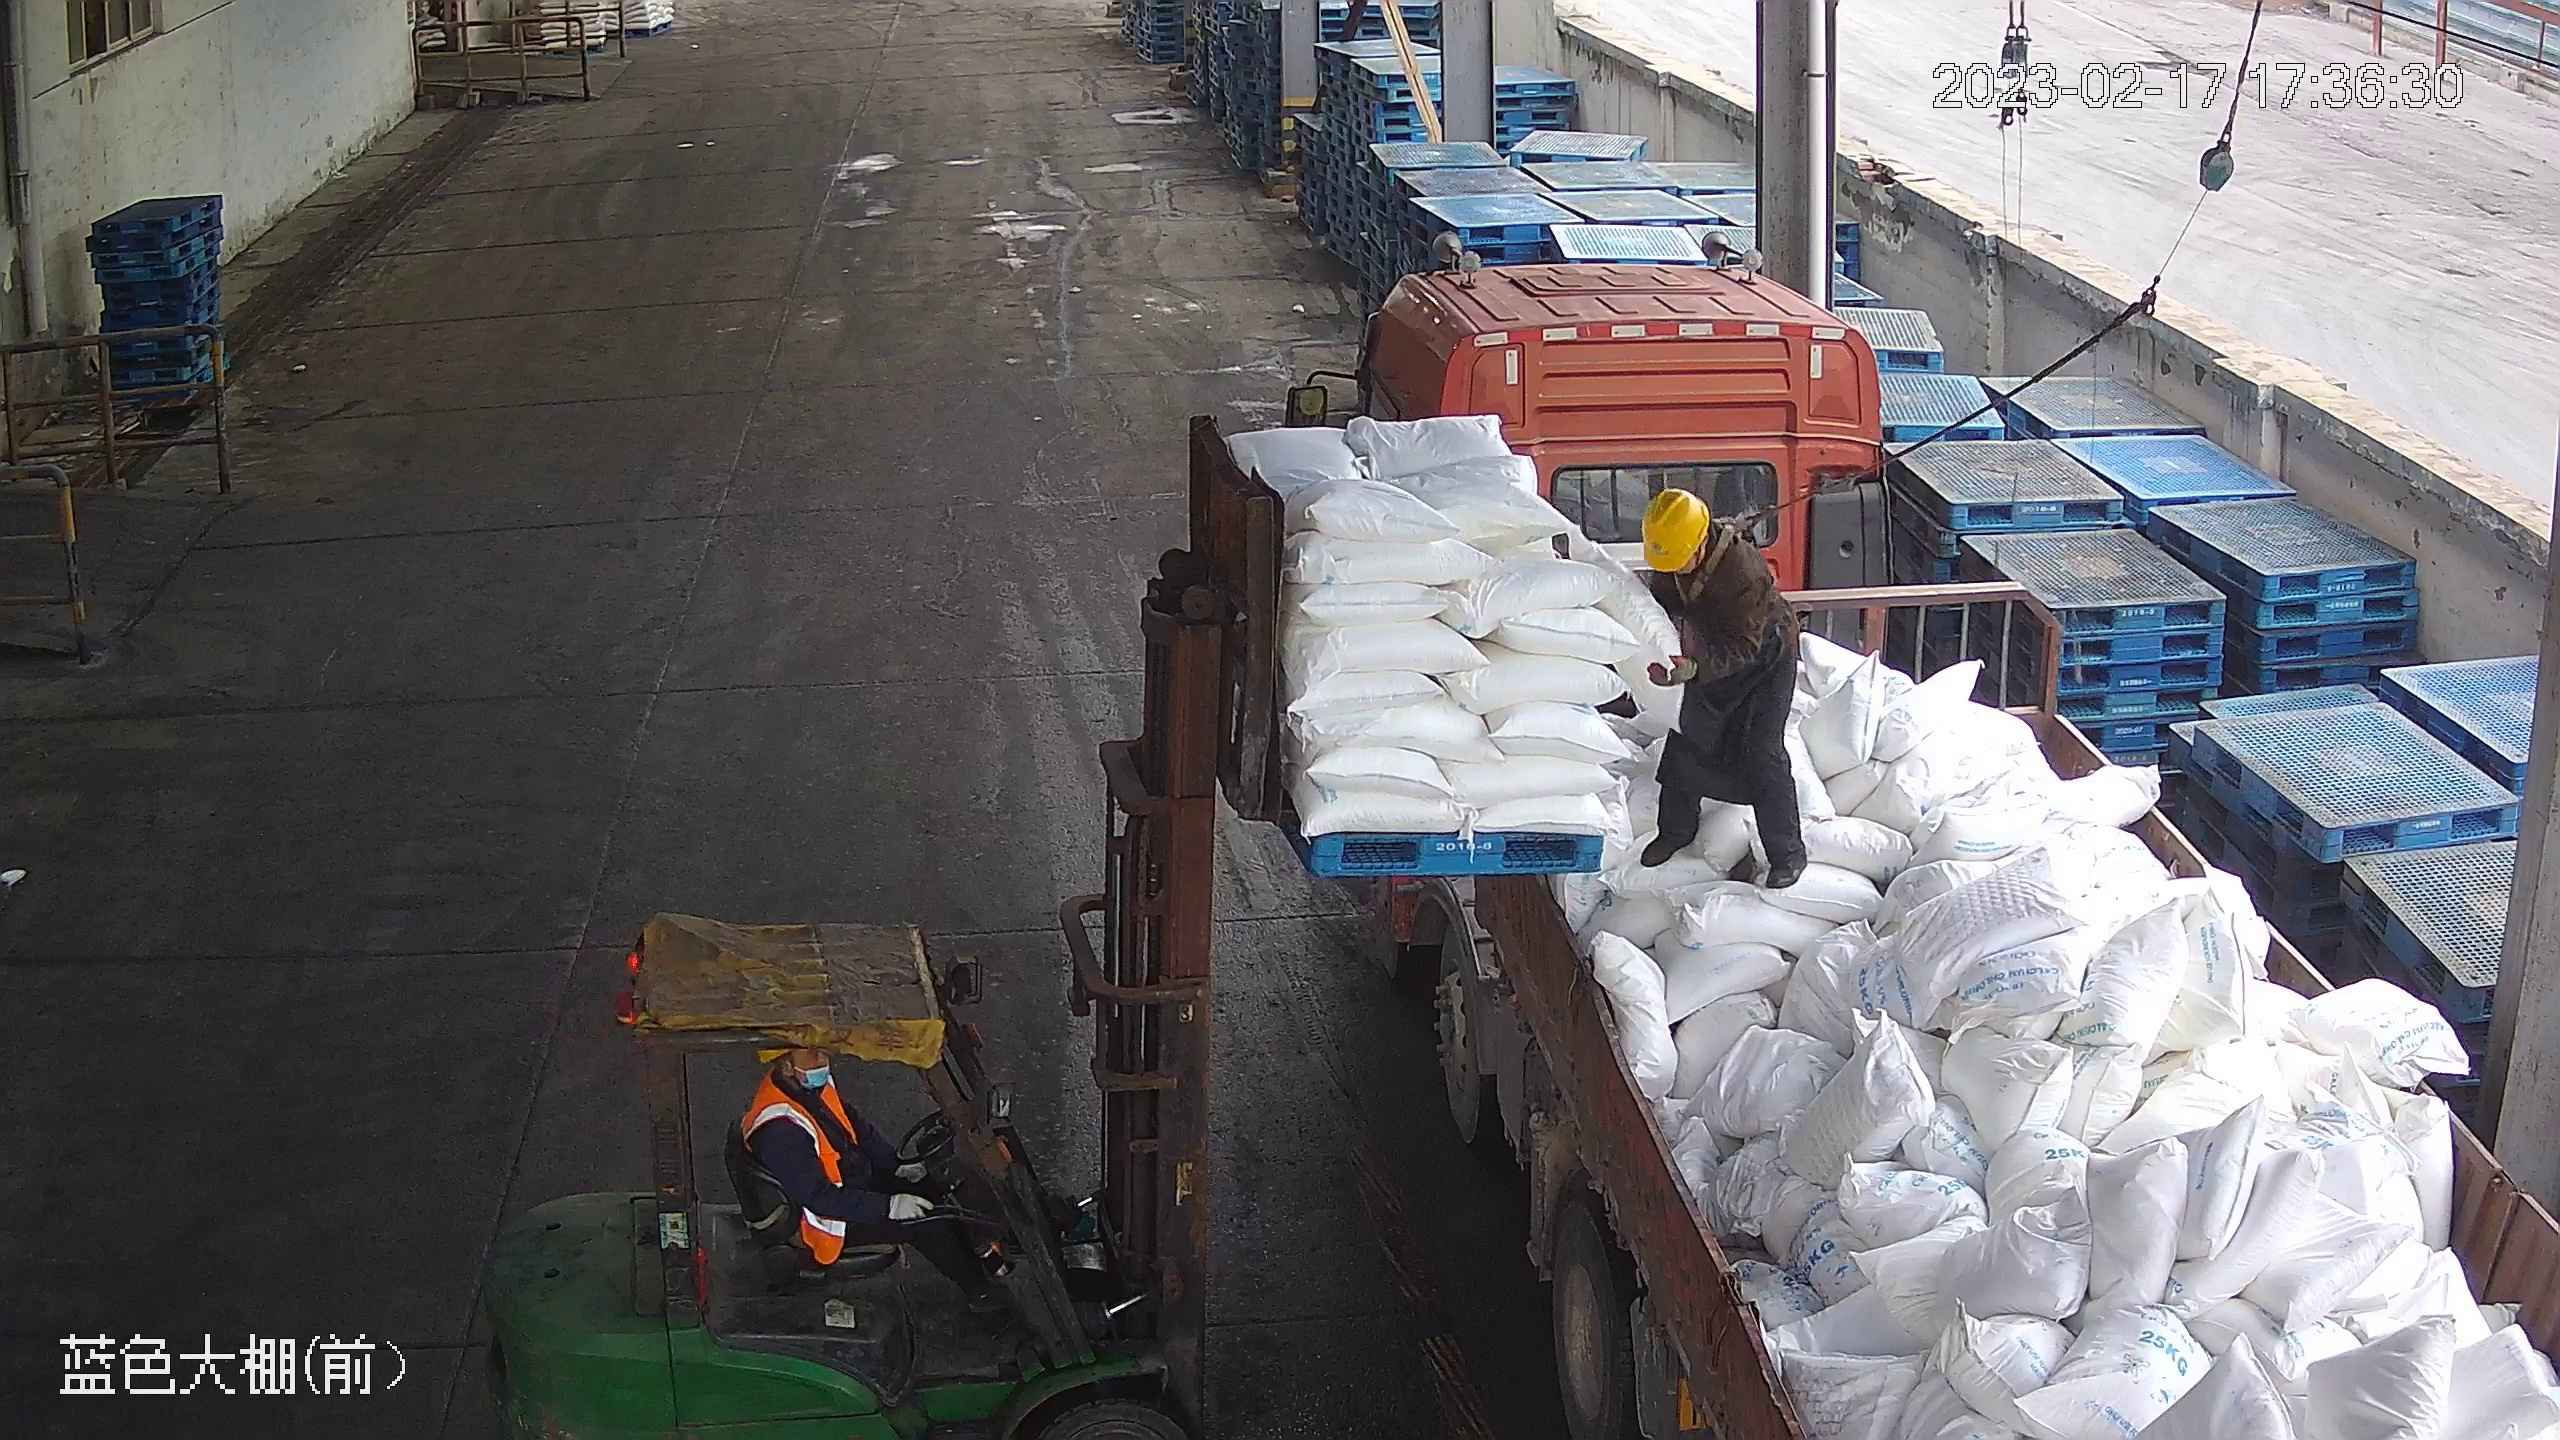belt: (1667, 515, 1763, 604)
head: (1641, 485, 1778, 603), (746, 1045, 850, 1148)
helmet: (1641, 486, 1709, 571)
people: (736, 1042, 1007, 1316), (1641, 484, 1810, 891)
truck: (1352, 262, 2560, 1440)
